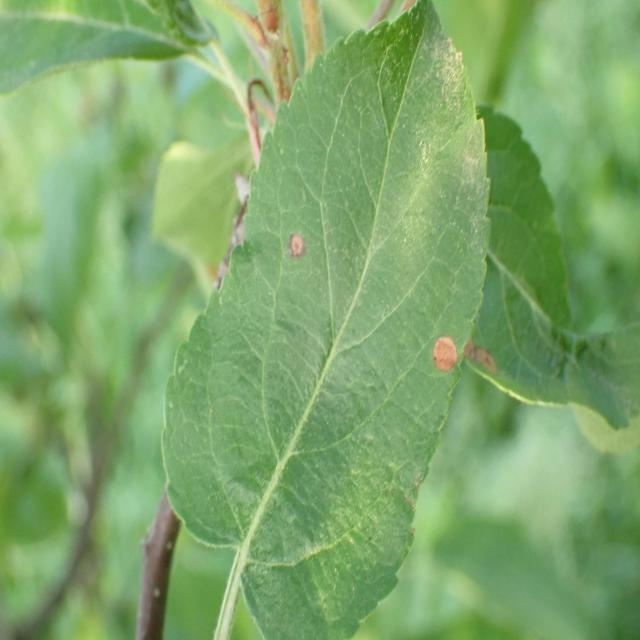frog-eye-leaf-spot: (160, 0, 491, 637), (462, 104, 640, 431)
